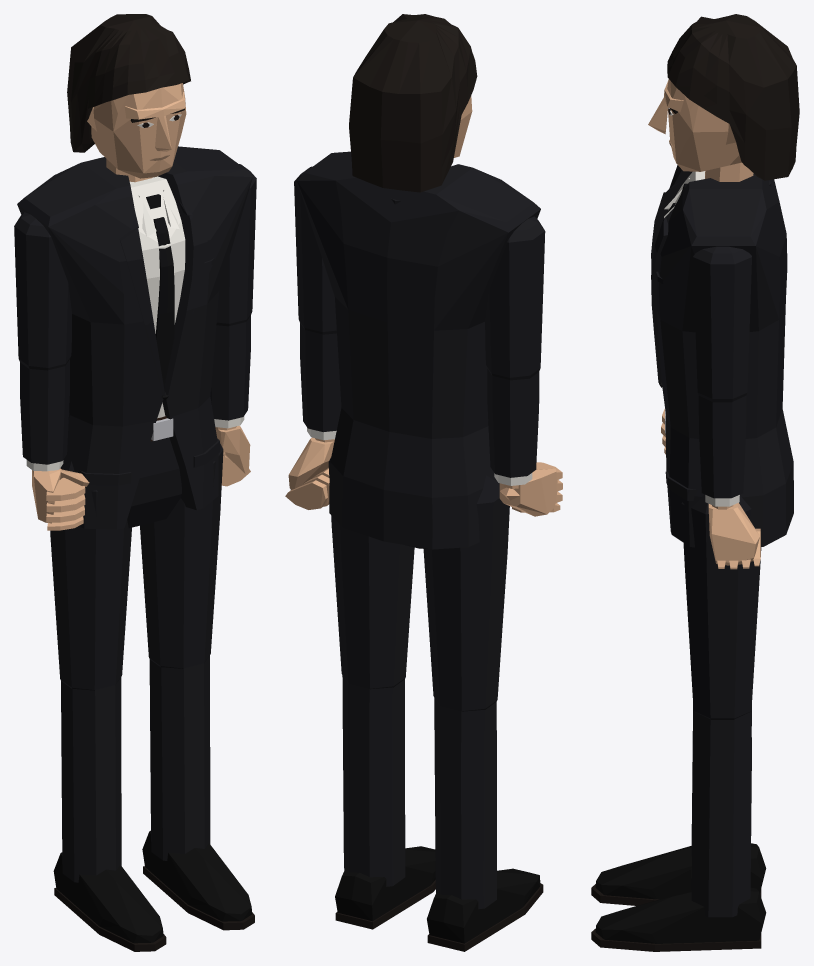
File: hitman.glb
The picture shows the model from 3 angles, left to right: view 1: azimuth 30°, elevation 25°; view 2: azimuth 150°, elevation 25°; view 3: azimuth 270°, elevation 25°; orthographic projection. The views are drawn at different scales.
Visible parts, largest first — view 1: chest_mesh, head_mesh, spine_mesh, hips_mesh, upperLegR_mesh, upperLegL_mesh, lowerLegR_mesh, lowerLegL_mesh, upperArmR_mesh, footR_mesh, footL_mesh, lowerArmR_mesh (+5 smaller); view 2: chest_mesh, head_mesh, hips_mesh, spine_mesh, upperLegR_mesh, lowerLegL_mesh, lowerLegR_mesh, upperLegL_mesh, upperArmR_mesh, lowerArmR_mesh, footR_mesh, footL_mesh (+4 smaller); view 3: head_mesh, chest_mesh, upperLegL_mesh, lowerLegL_mesh, upperArmL_mesh, hips_mesh, spine_mesh, footL_mesh, lowerArmL_mesh, footR_mesh, handL_mesh, neck_mesh.
Part boxes in pixels (x1,y1,x2,y2): chest_mesh: [17, 146, 252, 326]; head_mesh: [67, 14, 190, 178]; spine_mesh: [69, 291, 219, 426]; hips_mesh: [61, 396, 220, 529]; upperLegR_mesh: [50, 461, 131, 690]; upperLegL_mesh: [140, 438, 223, 668]; lowerLegR_mesh: [61, 677, 121, 882]; lowerLegL_mesh: [149, 656, 210, 860]; upperArmR_mesh: [14, 212, 71, 370]; footR_mesh: [53, 852, 166, 951]; footL_mesh: [142, 830, 254, 930]; lowerArmR_mesh: [20, 359, 69, 471]; chest_mesh: [297, 151, 540, 330]; head_mesh: [349, 14, 477, 192]; hips_mesh: [329, 408, 496, 549]; spine_mesh: [335, 297, 488, 438]; upperLegR_mesh: [423, 475, 509, 711]; lowerLegL_mesh: [342, 675, 405, 886]; lowerLegR_mesh: [434, 698, 496, 909]; upperLegL_mesh: [328, 458, 414, 689]; upperArmR_mesh: [485, 216, 545, 380]; lowerArmR_mesh: [487, 369, 539, 488]; footR_mesh: [427, 868, 543, 951]; footL_mesh: [335, 846, 435, 929]; head_mesh: [648, 14, 799, 180]; chest_mesh: [651, 165, 787, 332]; upperLegL_mesh: [681, 494, 761, 719]; lowerLegL_mesh: [691, 711, 751, 917]; upperArmL_mesh: [693, 246, 751, 402]; hips_mesh: [665, 409, 793, 547]; spine_mesh: [651, 299, 785, 438]; footL_mesh: [591, 887, 766, 951]; lowerArmL_mesh: [698, 395, 746, 509]; footR_mesh: [591, 843, 766, 905]; handL_mesh: [708, 502, 760, 569]; neck_mesh: [664, 162, 753, 217].
Bounding box in the file's own units: 0.51 × 1.84 × 0.3881.
